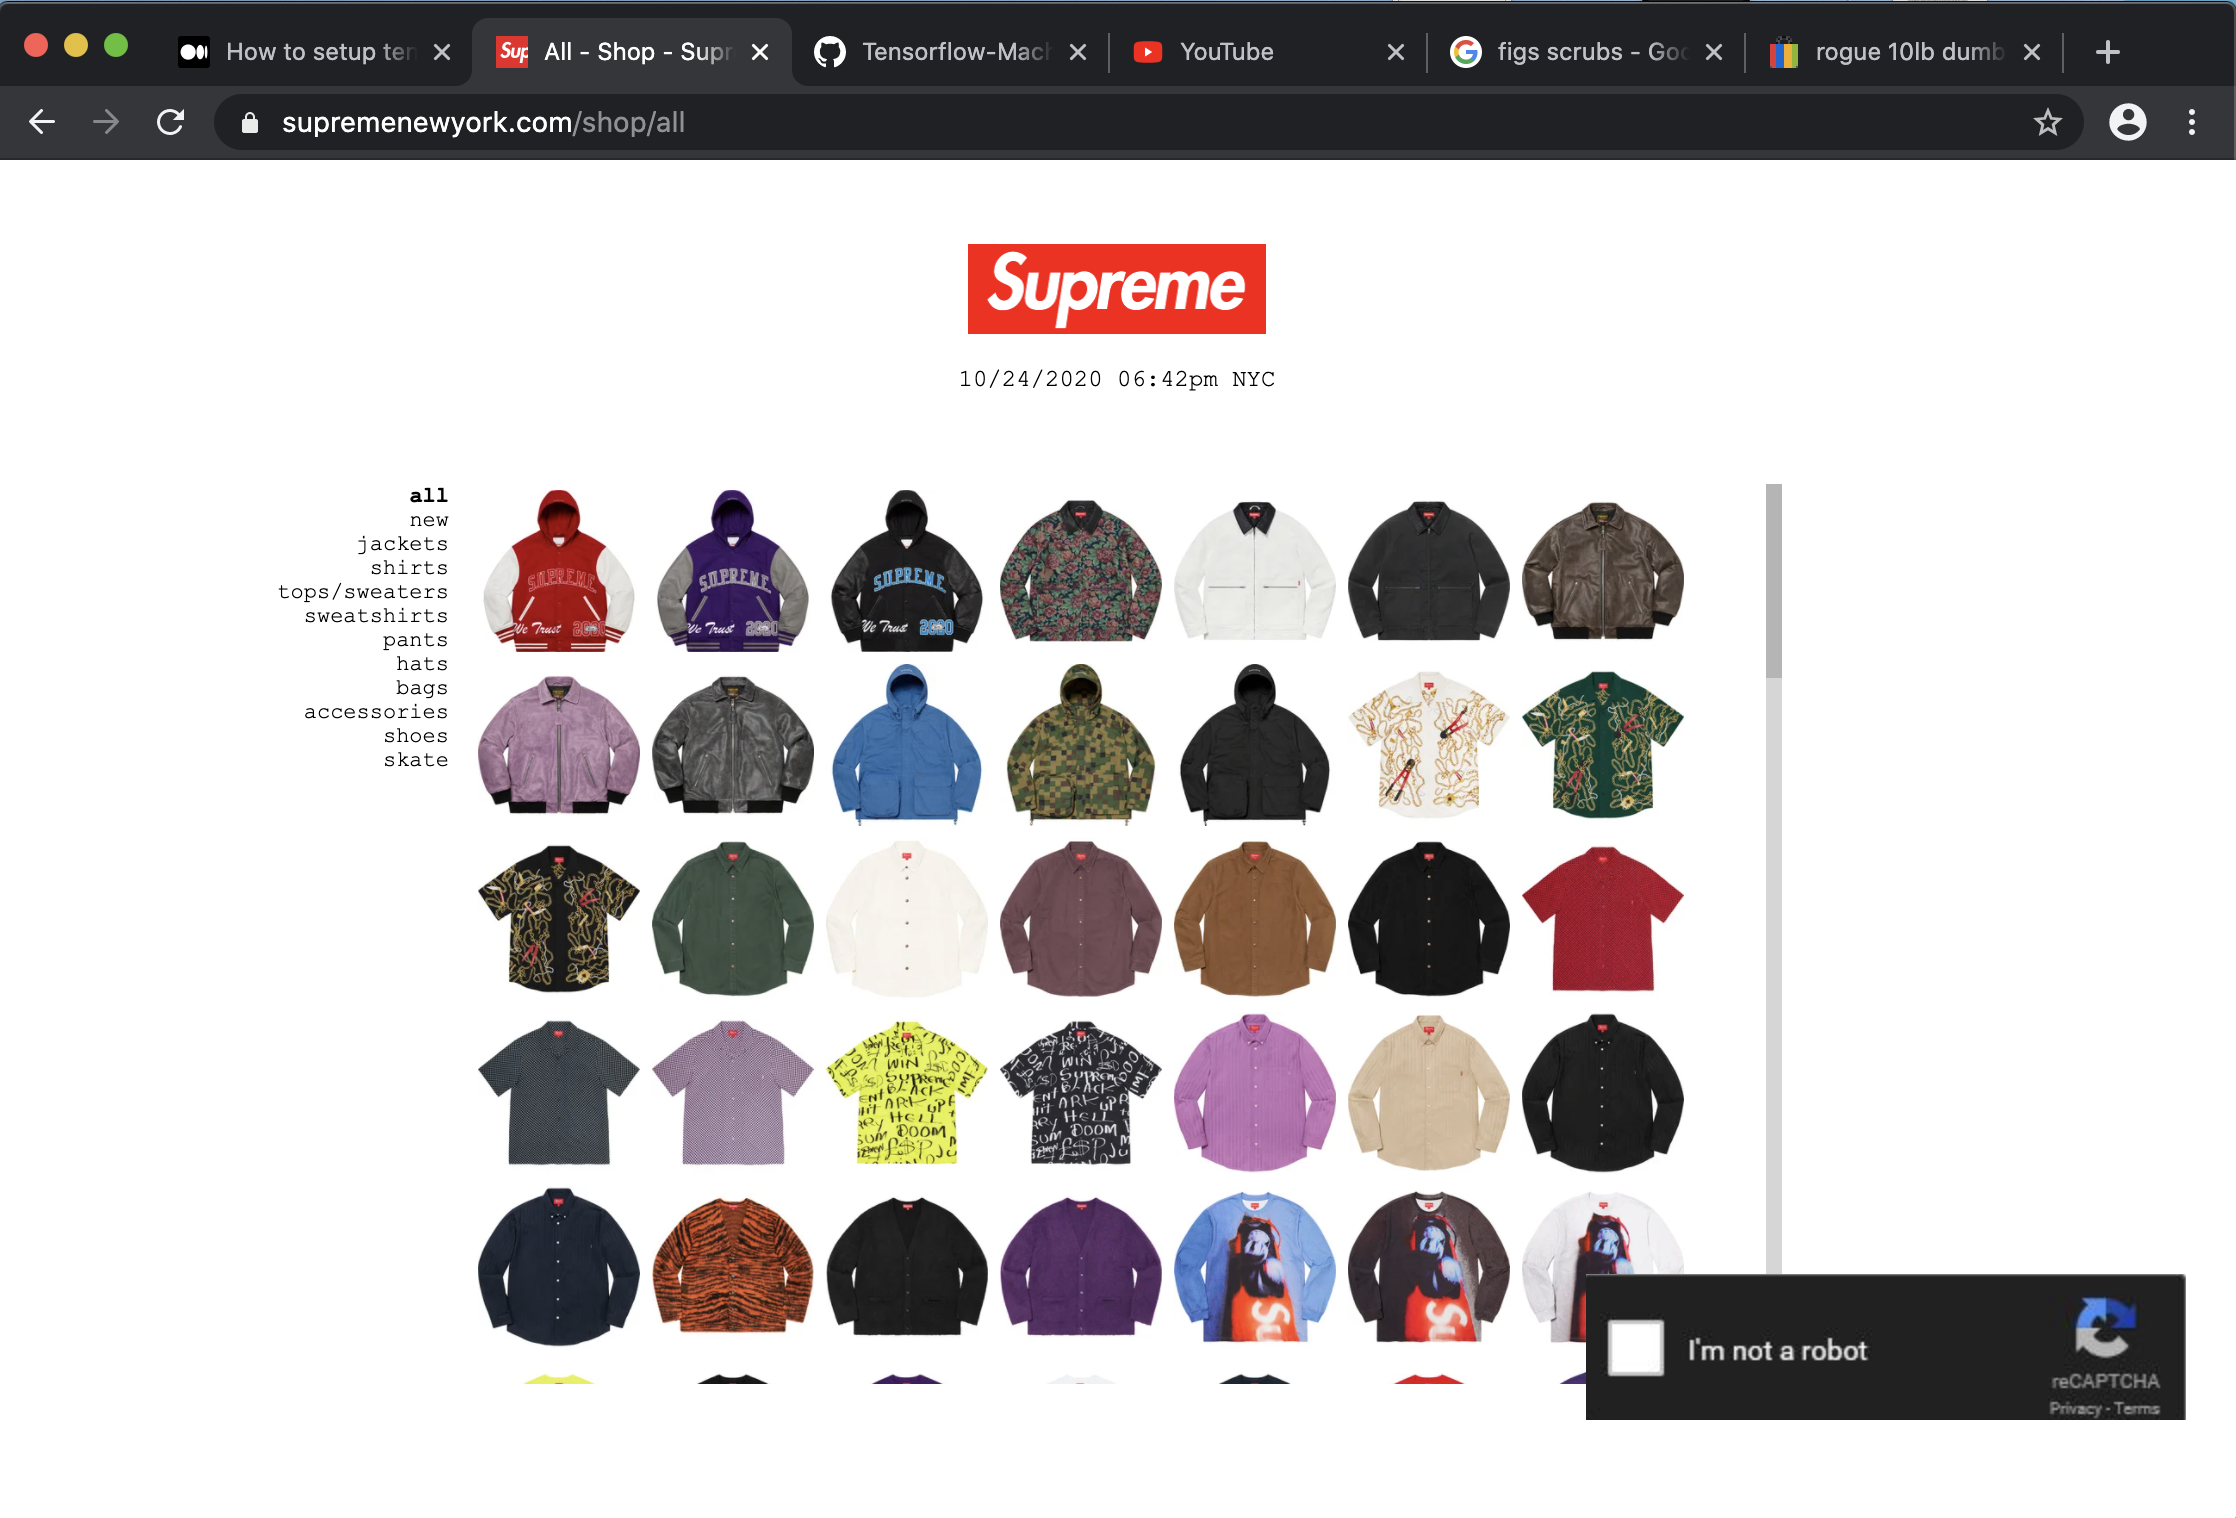captcha: (1569, 1255, 2199, 1442)
